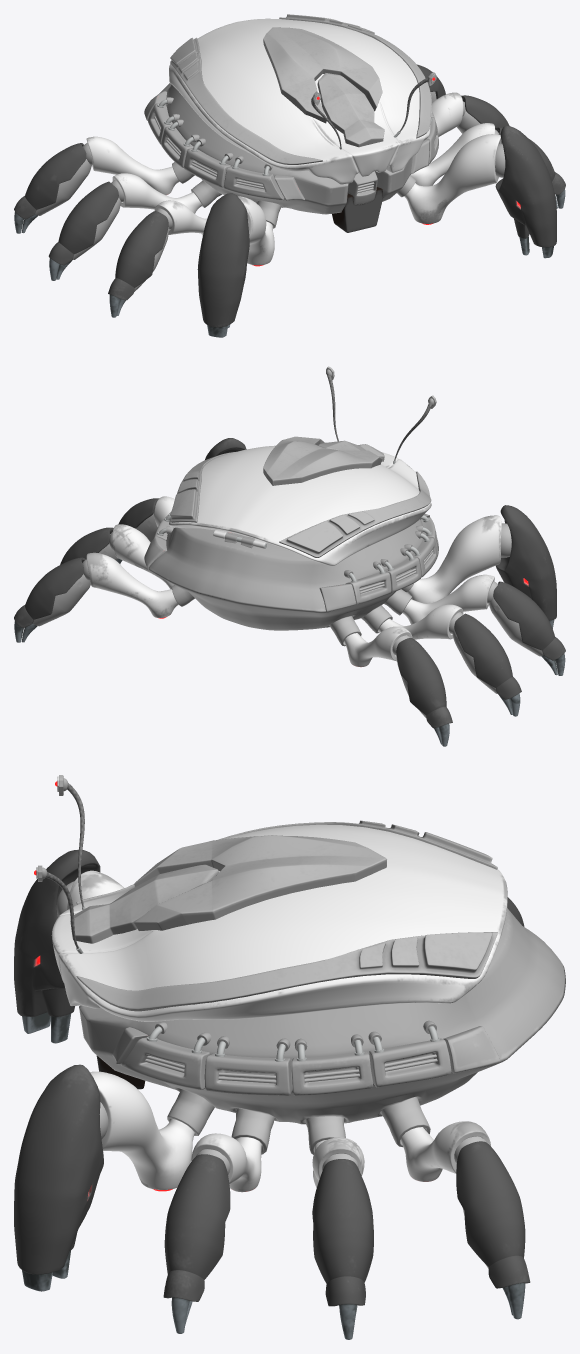
The model's file is Mechanical_Crab.glb.
3 views of the same model, one above another, from view 1: azimuth 30°, elevation 25°; view 2: azimuth 150°, elevation 25°; view 3: azimuth 270°, elevation 25° (orthographic). The views are drawn at different scales.
Visible parts, largest first — view 1: Crabv02a_color:capTop, Crabv02a_color:bodyBottom, Crabv02a_color:Topcaptop1, Crabv02a_color:Left1L1_14L1_14, Crabv02a_color:R1L1_20, Crabv02a_color:Topcapside, Crabv02a_color:L1_22, Crabv02a_color:polySurface6Side, Crabv02a_color:Topcaptop2, Crabv02a_color:Left2L2_4L2_4, Crabv02a_color:Left3L3_4L3_4, Crabv02a_color:Left4L4_4L4_4 (+13 smaller); view 2: Crabv02a_color:bodyBottom, Crabv02a_color:capTop, Crabv02a_color:Topcapside, Crabv02a_color:Left1L1_14L1_14, Crabv02a_color:Left1L1_12L1_12L1_12, Crabv02a_color:Topcaptop1, Crabv02a_color:Left4L4_4L4_4, Crabv02a_color:Left3L3_4L3_4, Crabv02a_color:Left2L2_4L2_4, Crabv02a_color:R4L4_9, Crabv02a_color:polySurface6Side, Crabv02a_color:R4L4_11 (+11 smaller); view 3: Crabv02a_color:capTop, Crabv02a_color:bodyBottom, Crabv02a_color:R1L1_20, Crabv02a_color:Topcapside, Crabv02a_color:Topcaptop1, Crabv02a_color:polySurface6Side, Crabv02a_color:Left1L1_14L1_14, Crabv02a_color:R3L3_11, Crabv02a_color:R2L2_11, Crabv02a_color:R4L4_11, Crabv02a_color:L1_22, Crabv02a_color:Topcaptop2 (+9 smaller).
Part boxes in pixels (<box>): Crabv02a_color:capTop: <box>169,18,431,184</box>; Crabv02a_color:bodyBottom: <box>158,83,412,214</box>; Crabv02a_color:Topcaptop1: <box>263,27,382,123</box>; Crabv02a_color:Left1L1_14L1_14: <box>197,193,249,337</box>; Crabv02a_color:R1L1_20: <box>495,125,556,258</box>; Crabv02a_color:Topcapside: <box>170,14,431,164</box>; Crabv02a_color:L1_22: <box>404,134,501,224</box>; Crabv02a_color:polySurface6Side: <box>148,104,438,200</box>; Crabv02a_color:Topcaptop2: <box>317,73,384,147</box>; Crabv02a_color:Left2L2_4L2_4: <box>108,211,168,300</box>; Crabv02a_color:Left3L3_4L3_4: <box>48,181,118,265</box>; Crabv02a_color:Left4L4_4L4_4: <box>14,143,86,219</box>; Crabv02a_color:bodyBottom: <box>148,519,423,630</box>; Crabv02a_color:capTop: <box>169,445,431,565</box>; Crabv02a_color:Topcapside: <box>170,452,431,557</box>; Crabv02a_color:Left1L1_14L1_14: <box>496,505,556,628</box>; Crabv02a_color:Left1L1_12L1_12L1_12: <box>406,515,501,603</box>; Crabv02a_color:Topcaptop1: <box>263,436,382,485</box>; Crabv02a_color:Left4L4_4L4_4: <box>396,638,452,728</box>; Crabv02a_color:Left3L3_4L3_4: <box>454,613,521,699</box>; Crabv02a_color:Left2L2_4L2_4: <box>493,581,565,660</box>; Crabv02a_color:R4L4_9: <box>86,552,178,618</box>; Crabv02a_color:polySurface6Side: <box>153,512,438,604</box>; Crabv02a_color:R4L4_11: <box>14,557,85,627</box>; Crabv02a_color:capTop: <box>51,824,507,1021</box>; Crabv02a_color:bodyBottom: <box>79,908,565,1124</box>; Crabv02a_color:R1L1_20: <box>14,1064,103,1291</box>; Crabv02a_color:Topcapside: <box>76,820,497,1011</box>; Crabv02a_color:Topcaptop1: <box>134,835,386,930</box>; Crabv02a_color:polySurface6Side: <box>121,1037,451,1095</box>; Crabv02a_color:Left1L1_14L1_14: <box>14,849,100,1043</box>; Crabv02a_color:R3L3_11: <box>312,1159,373,1306</box>; Crabv02a_color:R2L2_11: <box>163,1154,230,1301</box>; Crabv02a_color:R4L4_11: <box>456,1141,530,1288</box>; Crabv02a_color:L1_22: <box>90,1071,194,1191</box>; Crabv02a_color:Topcaptop2: <box>70,864,218,943</box>.
Bounding box in the file's own units: 1.9 × 0.8162 × 1.21.
1 material, 1 textured.
